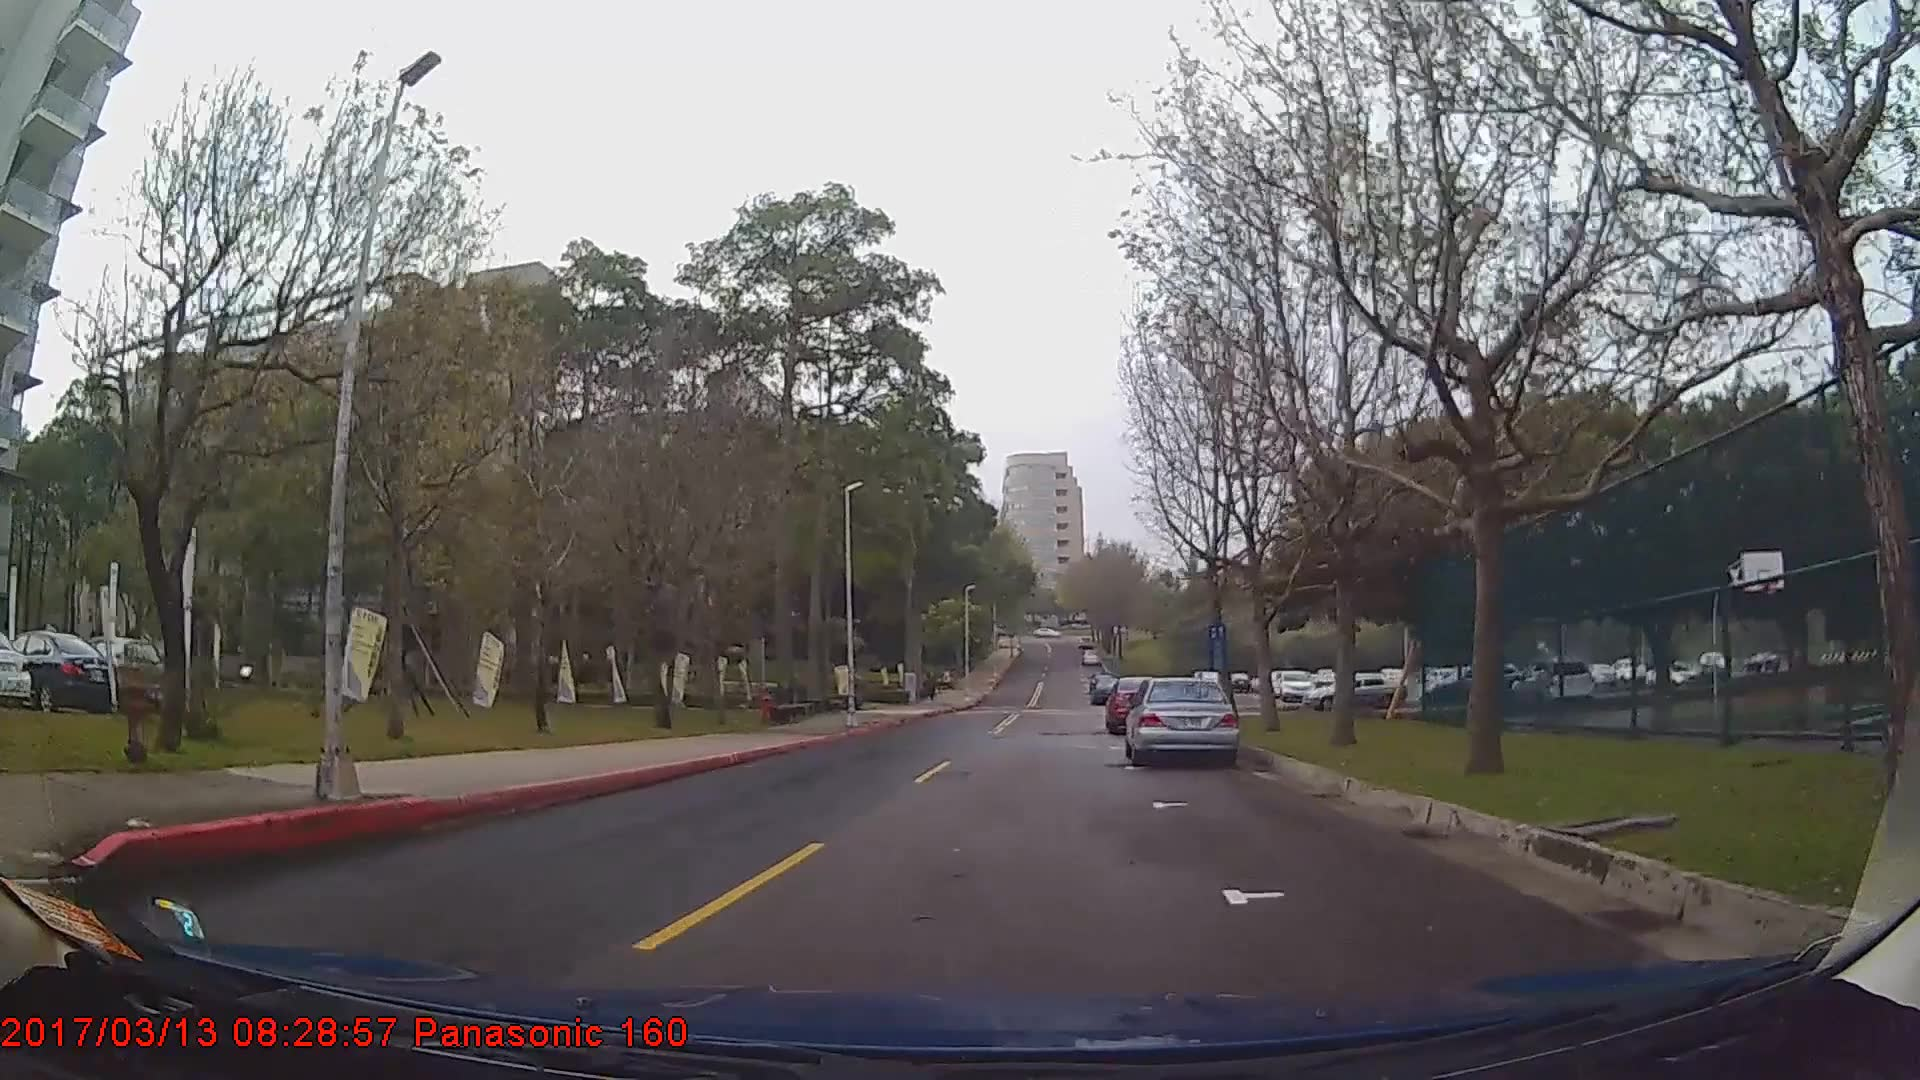vehicle: (1122, 676, 1238, 771), (0, 629, 113, 717), (75, 636, 167, 705), (1299, 669, 1406, 713), (1102, 674, 1168, 735), (0, 632, 38, 712), (1088, 675, 1124, 703)
